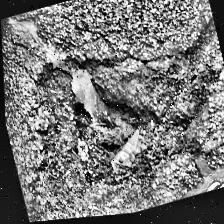pothole: (50, 35, 184, 197)
